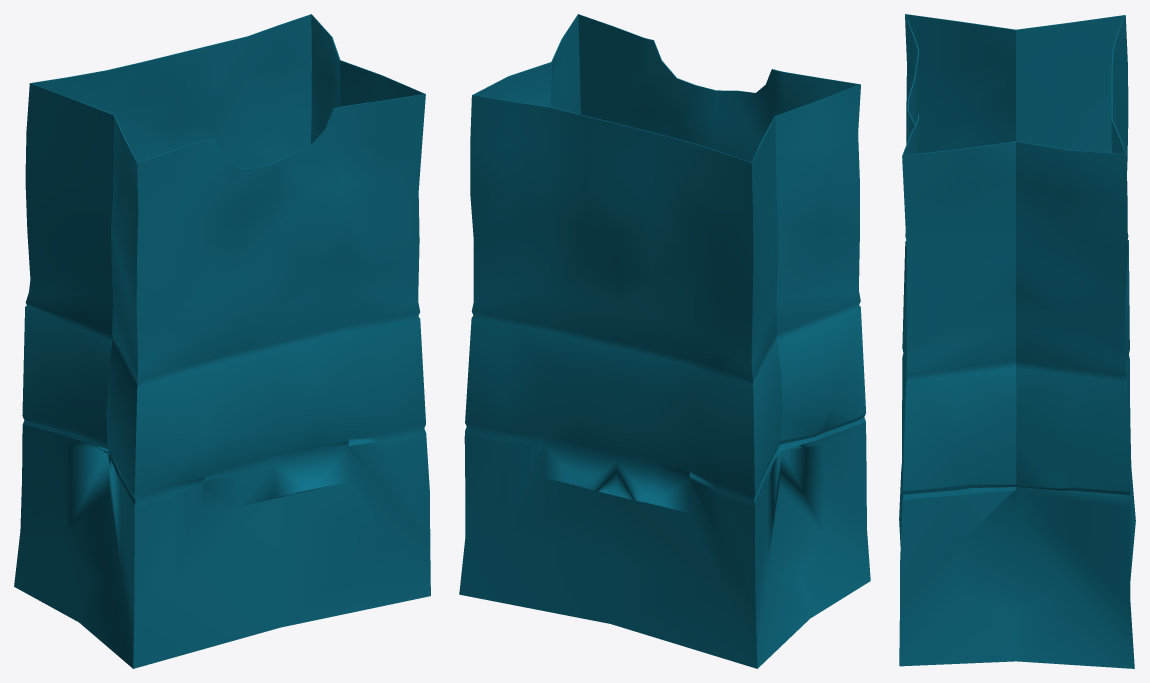
The model's file is Paper Bag.obj.
The picture shows the model from 3 angles, left to right: view 1: azimuth 30°, elevation 25°; view 2: azimuth 150°, elevation 25°; view 3: azimuth 270°, elevation 25°; orthographic projection. The views are drawn at different scales.
Parts seen in each view (by area): view 1: Paper_Bag; view 2: Paper_Bag; view 3: Paper_Bag.
Part boxes in pixels (x1,y1,x2,y2): Paper_Bag: [14, 14, 430, 668]; Paper_Bag: [459, 14, 870, 668]; Paper_Bag: [899, 14, 1135, 668].
Size of the model in its own units: 15.08 by 24.11 by 10.11.
